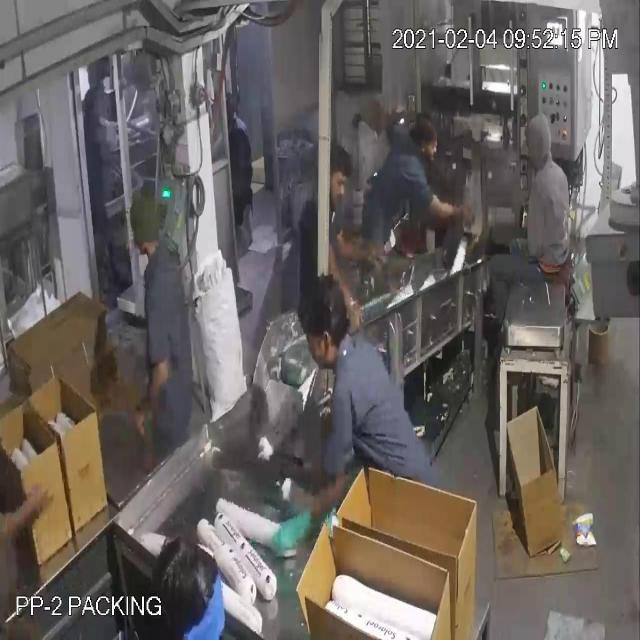No_Gloves: (30, 52, 454, 510)
